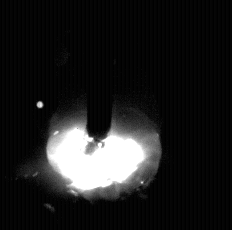arame: (88, 0, 113, 143)
poca: (46, 0, 162, 230)
